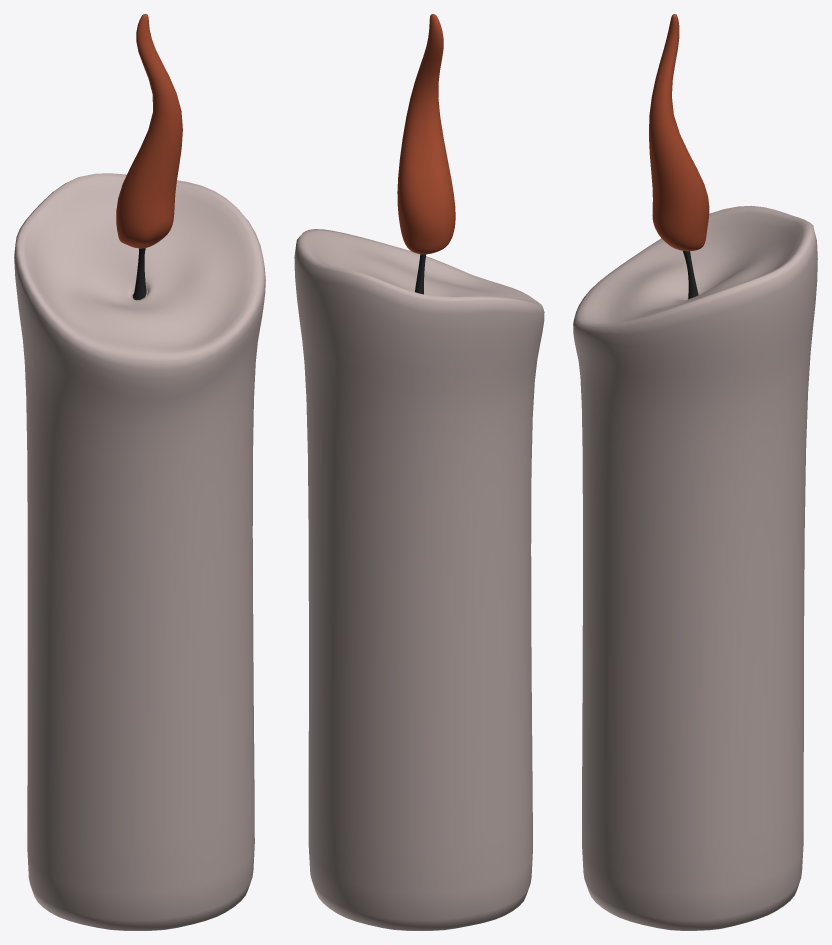
Rendered from candle.obj.
3 renders of one model, left to right at view 1: azimuth 30°, elevation 25°; view 2: azimuth 150°, elevation 25°; view 3: azimuth 270°, elevation 25°, orthographic.
Visible parts, largest first — view 1: Cylinder; view 2: Cylinder; view 3: Cylinder.
Boxes of the visible parts, x1,y1,x2,y2 form: Cylinder: (14, 14, 265, 930); Cylinder: (294, 14, 544, 930); Cylinder: (573, 14, 817, 930).
Bounding box in the file's own units: 2.19 × 8.41 × 2.13.
